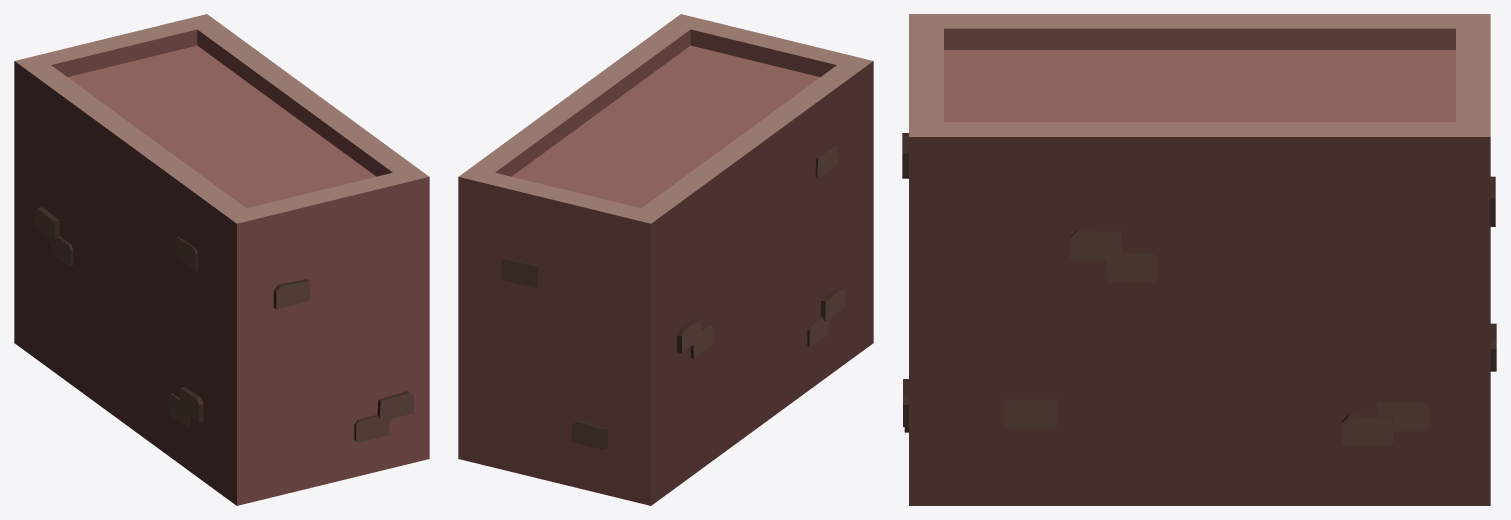
Rendered from TB_D_Bd_Body_Med_Red.FBX.
3 views of the same model, side by side, from view 1: azimuth 30°, elevation 25°; view 2: azimuth 150°, elevation 25°; view 3: azimuth 270°, elevation 25° (orthographic). The views are drawn at different scales.
Parts seen in each view (by area): view 1: TB_D_Bd_Body_Med_Red; view 2: TB_D_Bd_Body_Med_Red; view 3: TB_D_Bd_Body_Med_Red.
Boxes of the visible parts, left/top/right/bottom form: TB_D_Bd_Body_Med_Red: left=14, top=14, right=429, bottom=505; TB_D_Bd_Body_Med_Red: left=458, top=14, right=873, bottom=505; TB_D_Bd_Body_Med_Red: left=902, top=14, right=1496, bottom=505.
Bounding box in the file's own units: 2.63 × 3.5 × 5.11.
